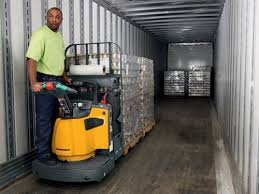Pallet Jack: (31, 42, 157, 183)
